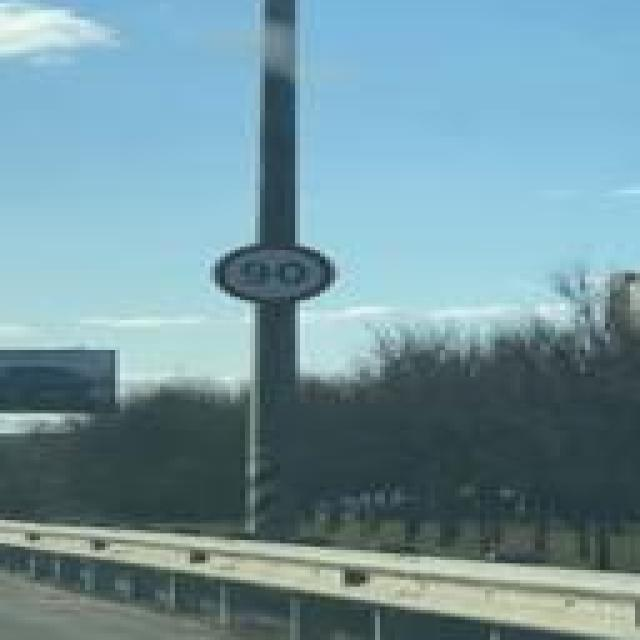Speed Limit -90-: (209, 238, 342, 311)
